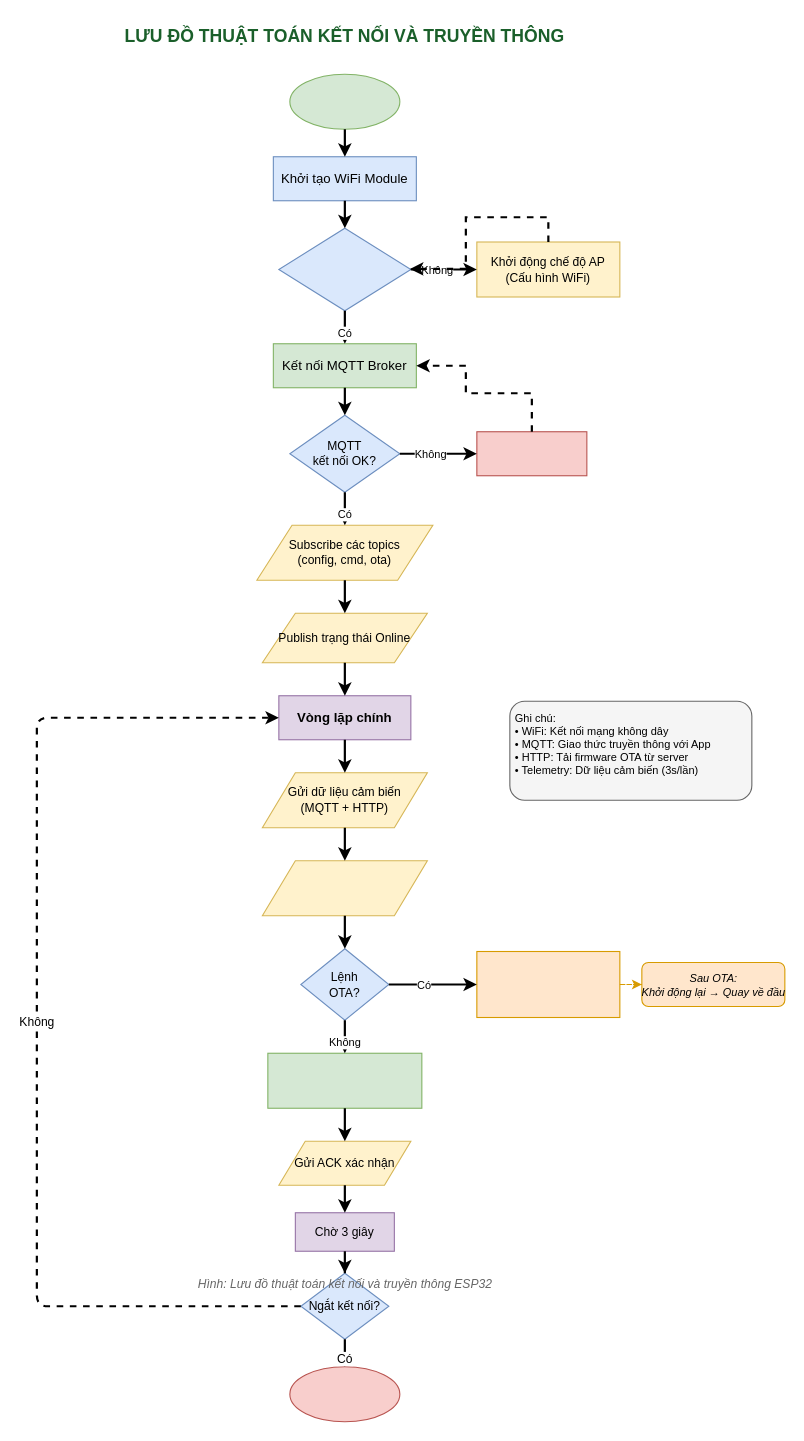
Some shapes in this 804 by 1441 pixel diagram are drawn without their labels. The shapes that lost their labels are listed below. From the top down, each one's centre as x and y in pixels, then its label:
(344,101): Bắt đầu
(344,269): Kết nối WiFi thành công?
(531,453): Chờ và thử lại
(344,888): Nhận lệnh từ MQTT (config, relay, OTA)
(548,984): Tải firmware từ HTTP Cập nhật OTA Khởi động lại
(344,1080): Xử lý lệnh điều khiển (Cập nhật ngưỡng, Relay)
(344,1394): Kết thúc
